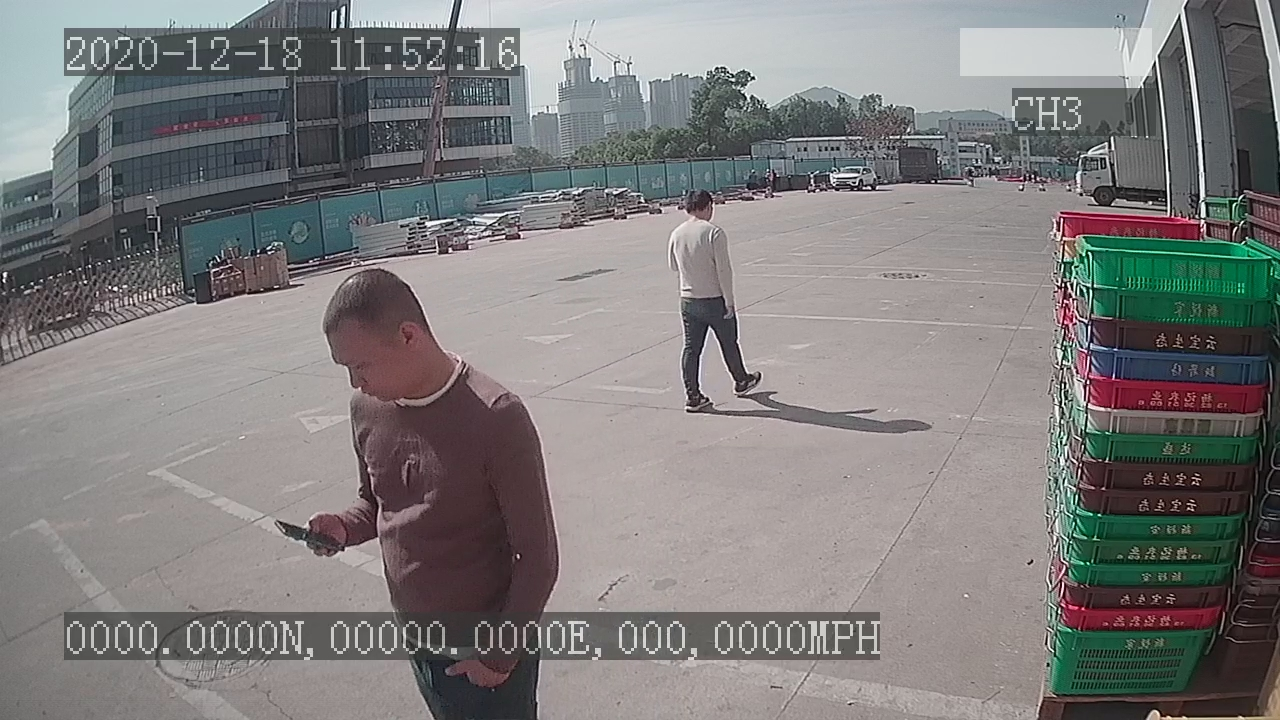person: (661, 186, 767, 417)
